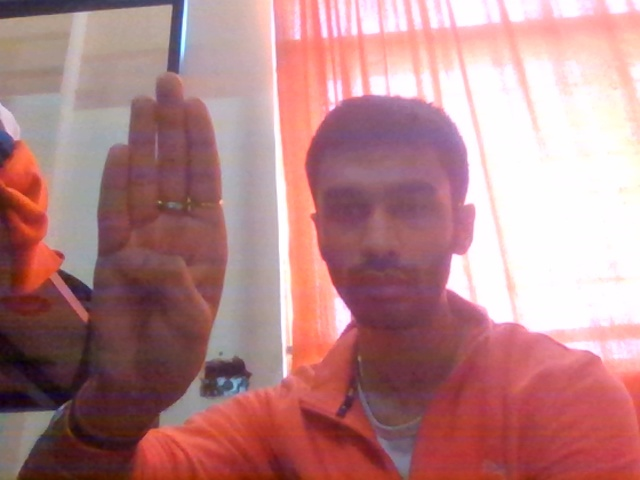B: (79, 80, 272, 421)
